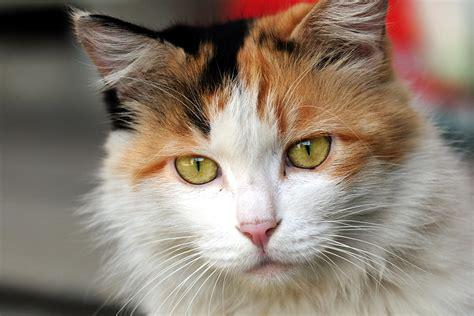cat: (74, 1, 474, 316)
